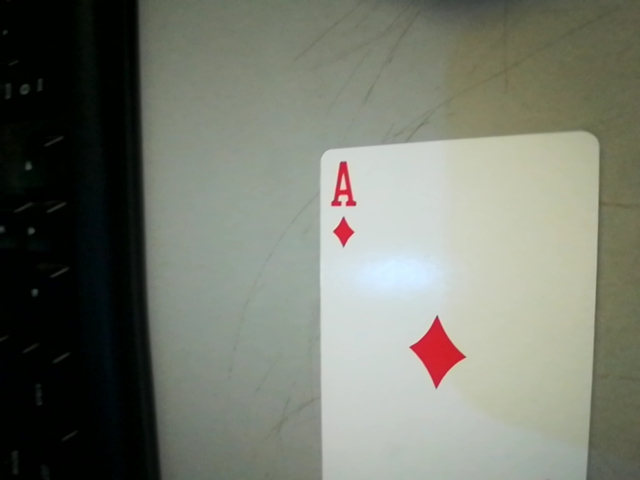fk a: (316, 156, 367, 254)
